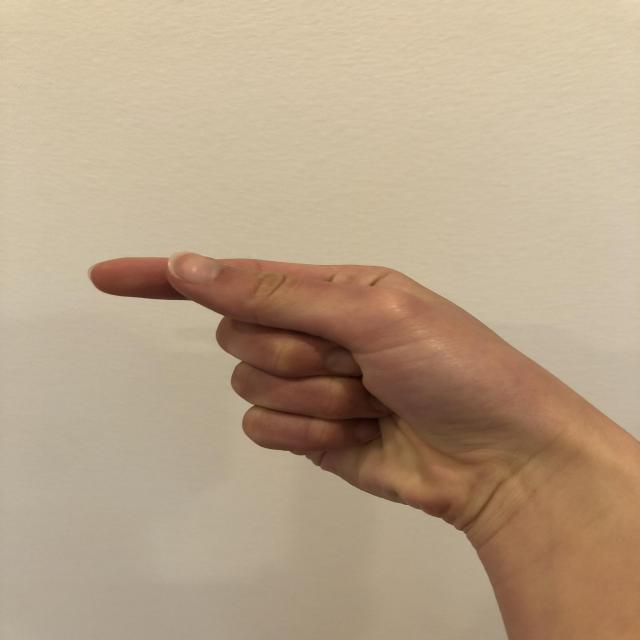G: (80, 246, 603, 542)
